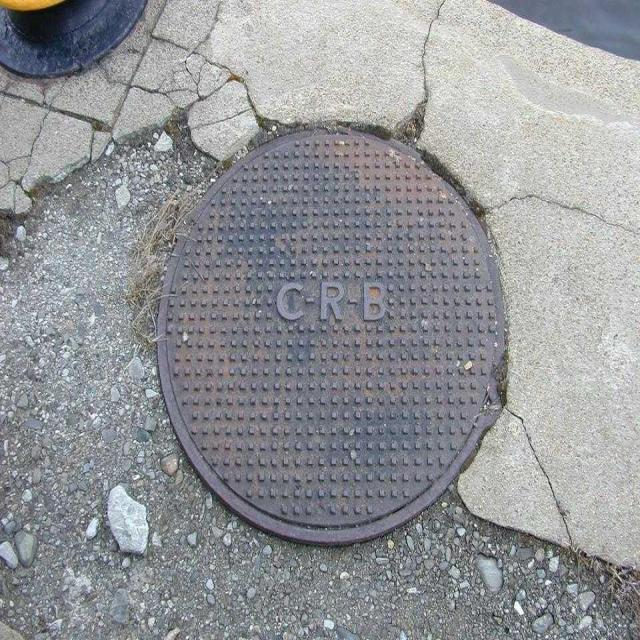manhole: (158, 132, 504, 543)
